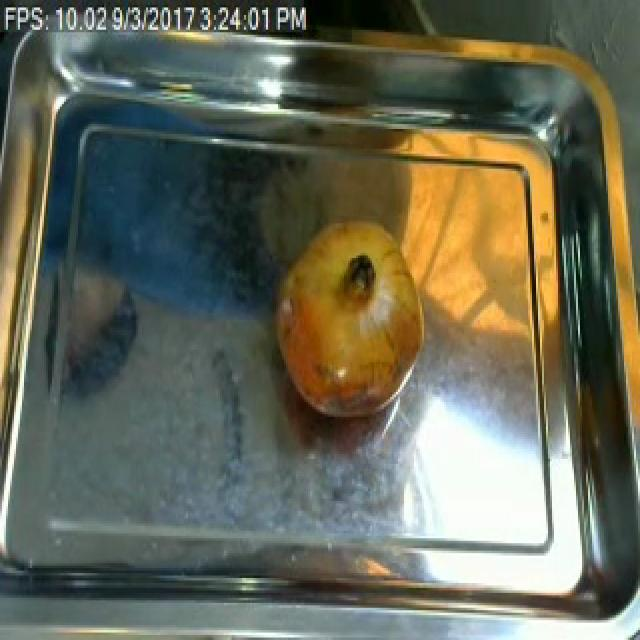fruit: (266, 208, 436, 430)
